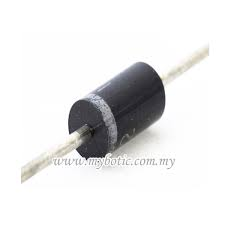diode: (41, 46, 193, 184)
